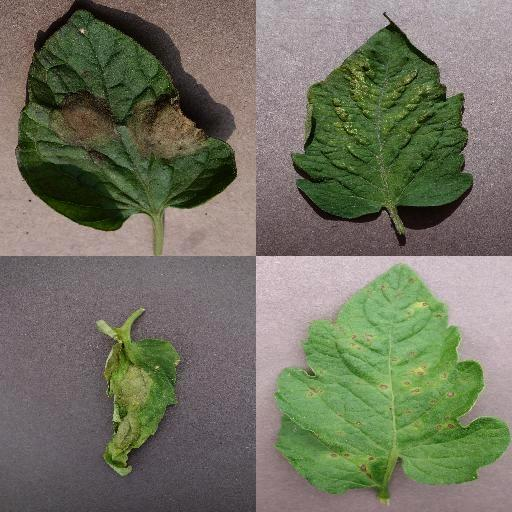Late Blight: (17, 8, 239, 232), (101, 338, 181, 480)
Septoria: (279, 263, 510, 493)
Spider Mites: (291, 17, 473, 219)
